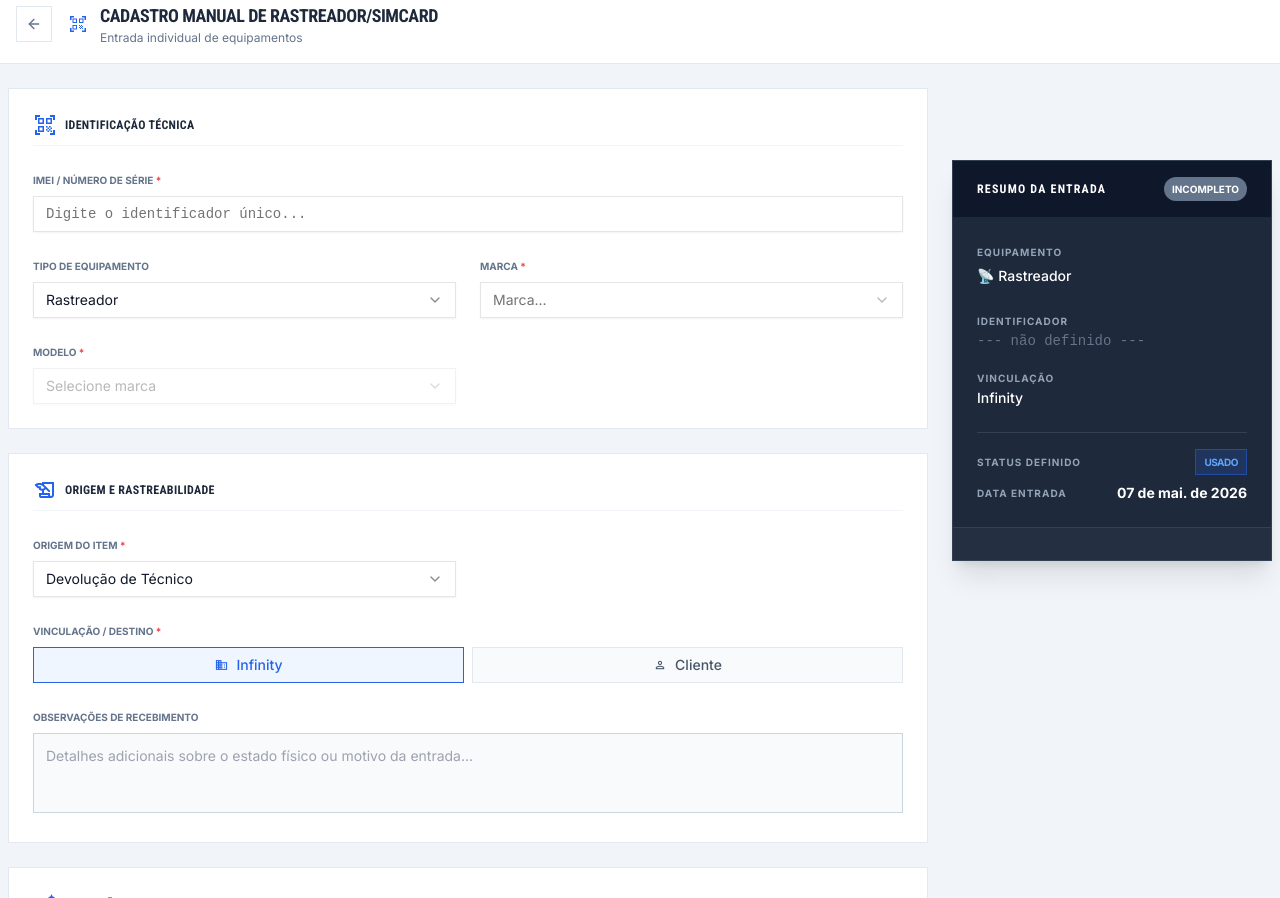
it: CadastroIndividualPage (integrado, APIs mockadas) › resumo: IMEI curto exibe ID INVÁLIDO com marca e modelo preenchidos
Expected: the heading "Identificação Técnica" is shown, [65,117,194,133]
Click the dropdown labelled "Marca...": (520, 300) [480,282,903,318]
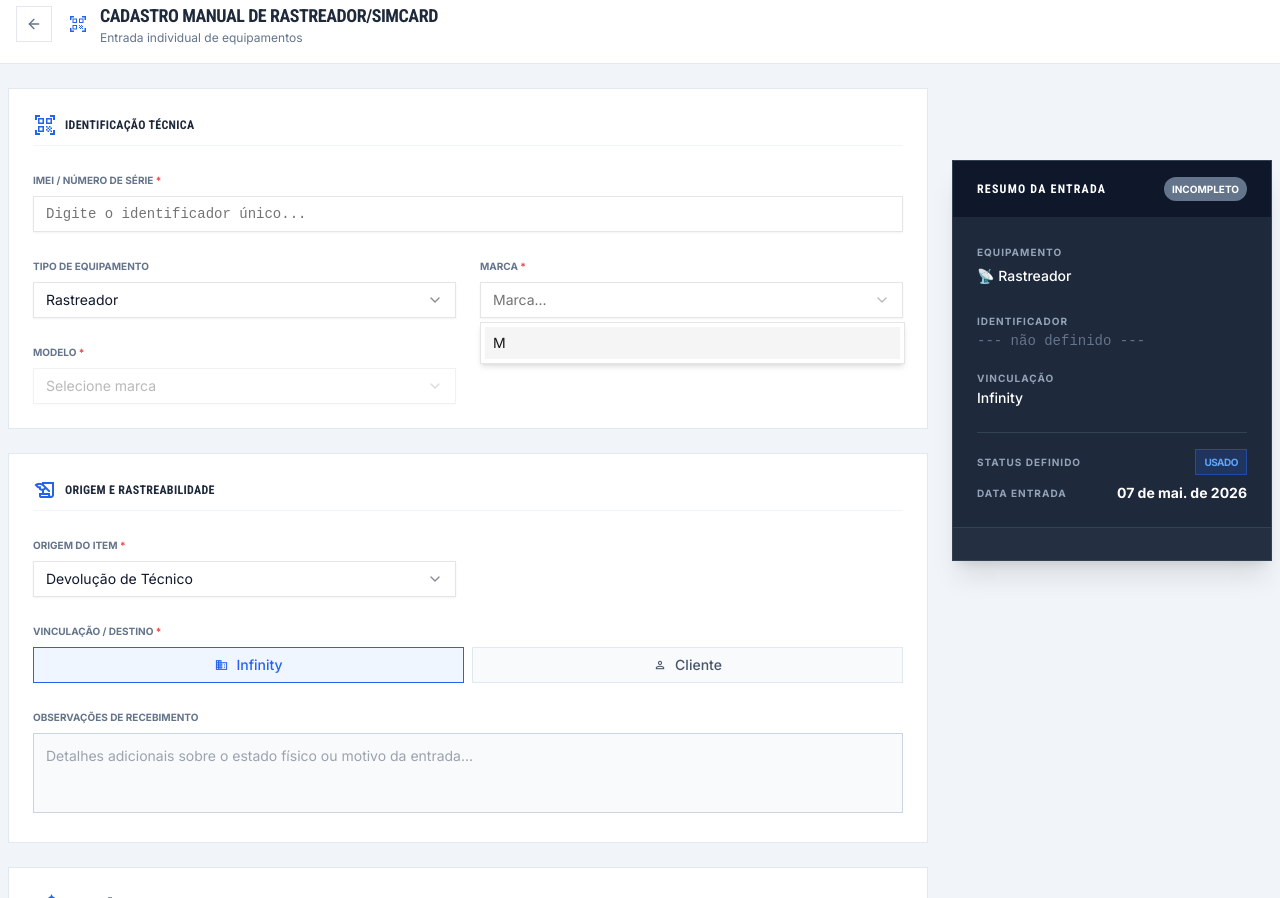
Click the option "M": (499, 342) [485,327,900,359]
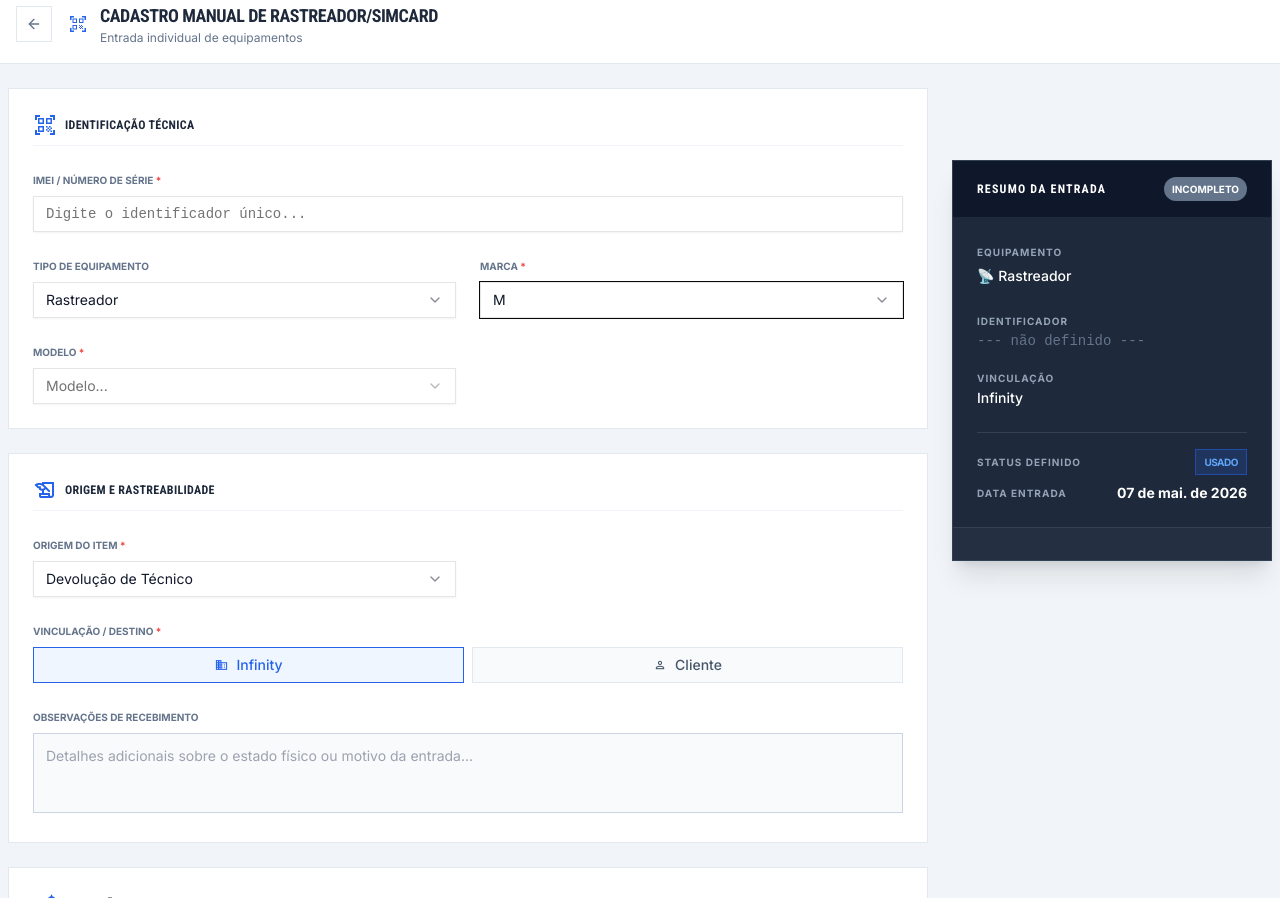
Click the dropdown labelled "Modelo...": (77, 386) [33,368,456,404]
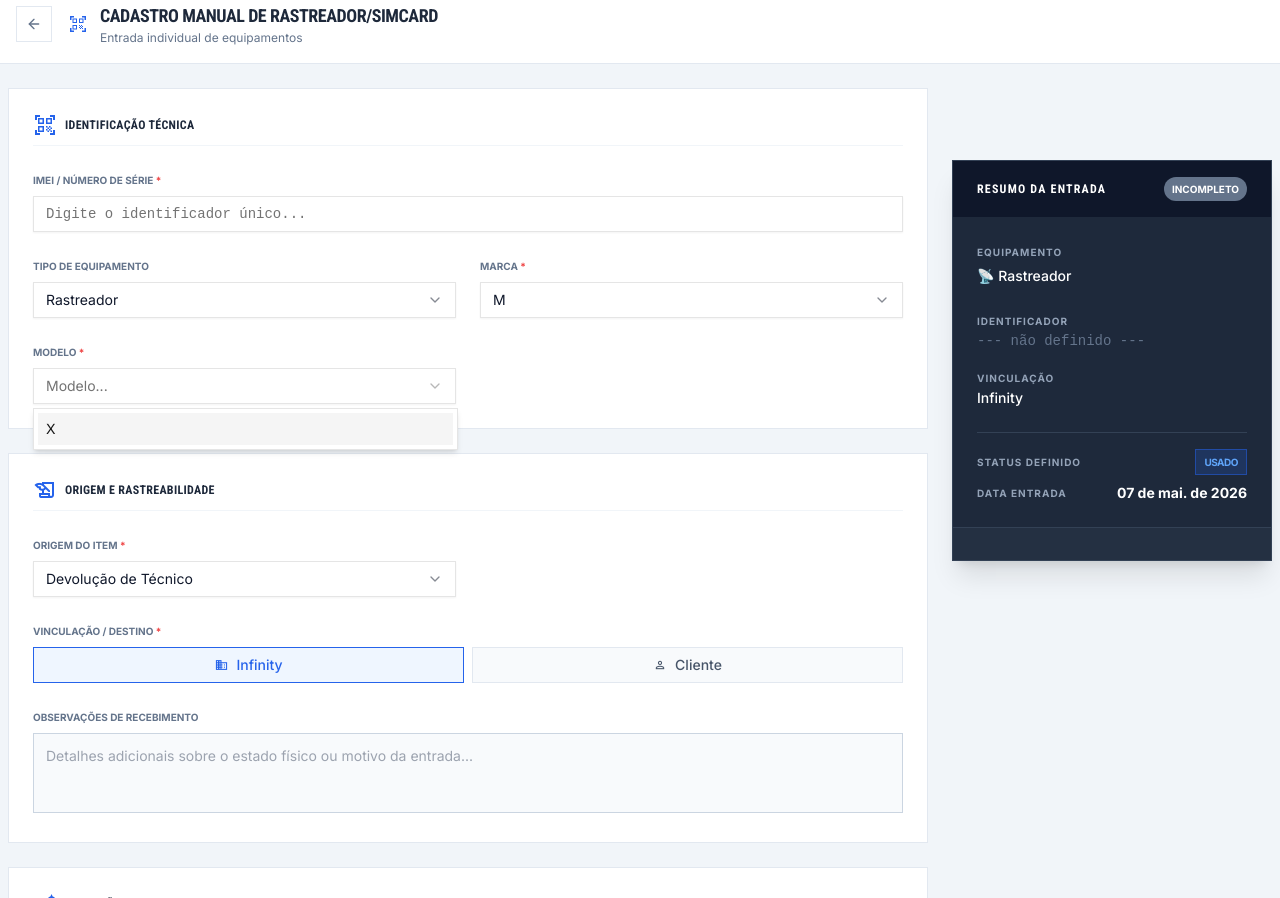
Click the option "X": (51, 428) [38,413,453,445]
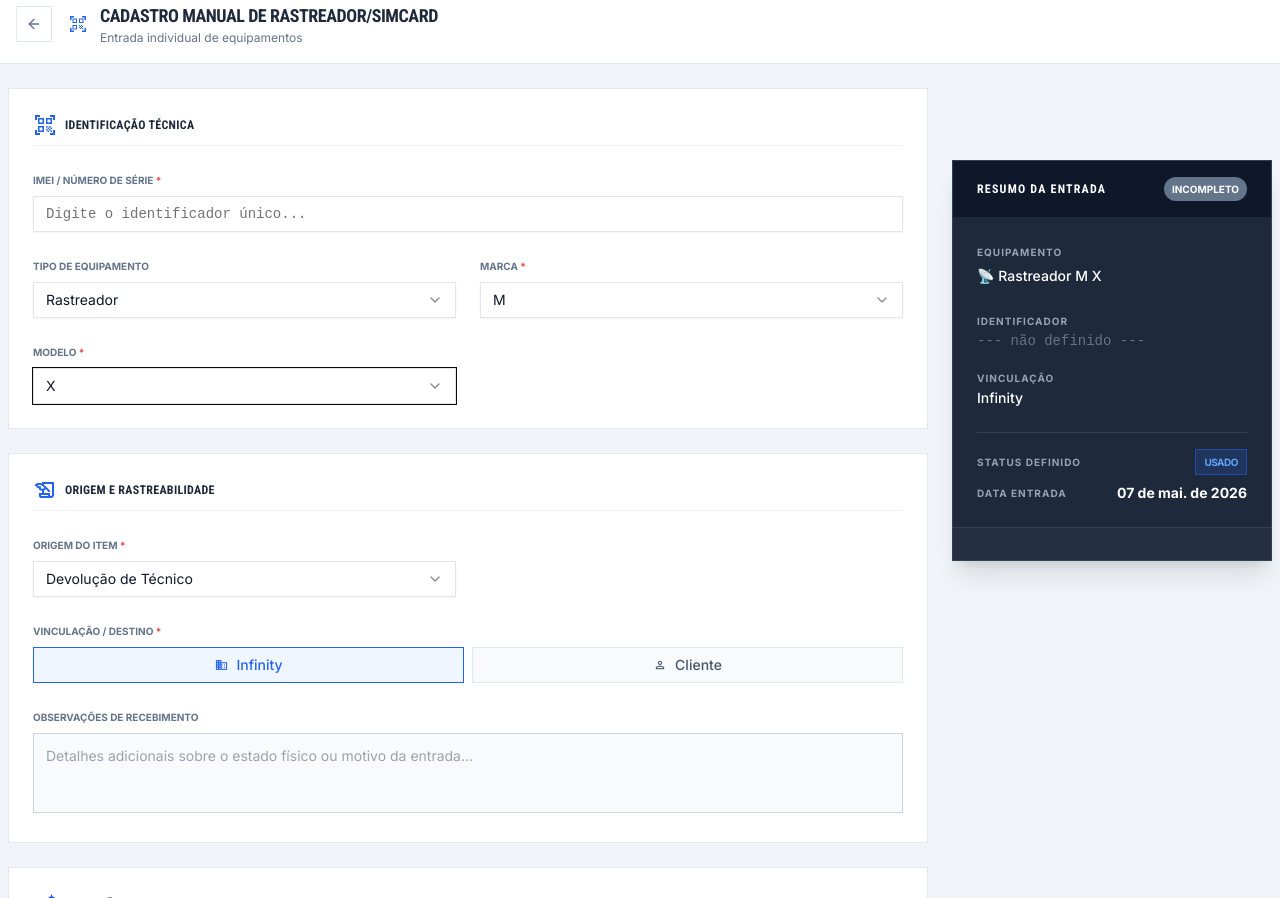
In the field with placeholder "Digite o identificador único...": (468, 214) [33,196,903,232], type "123"
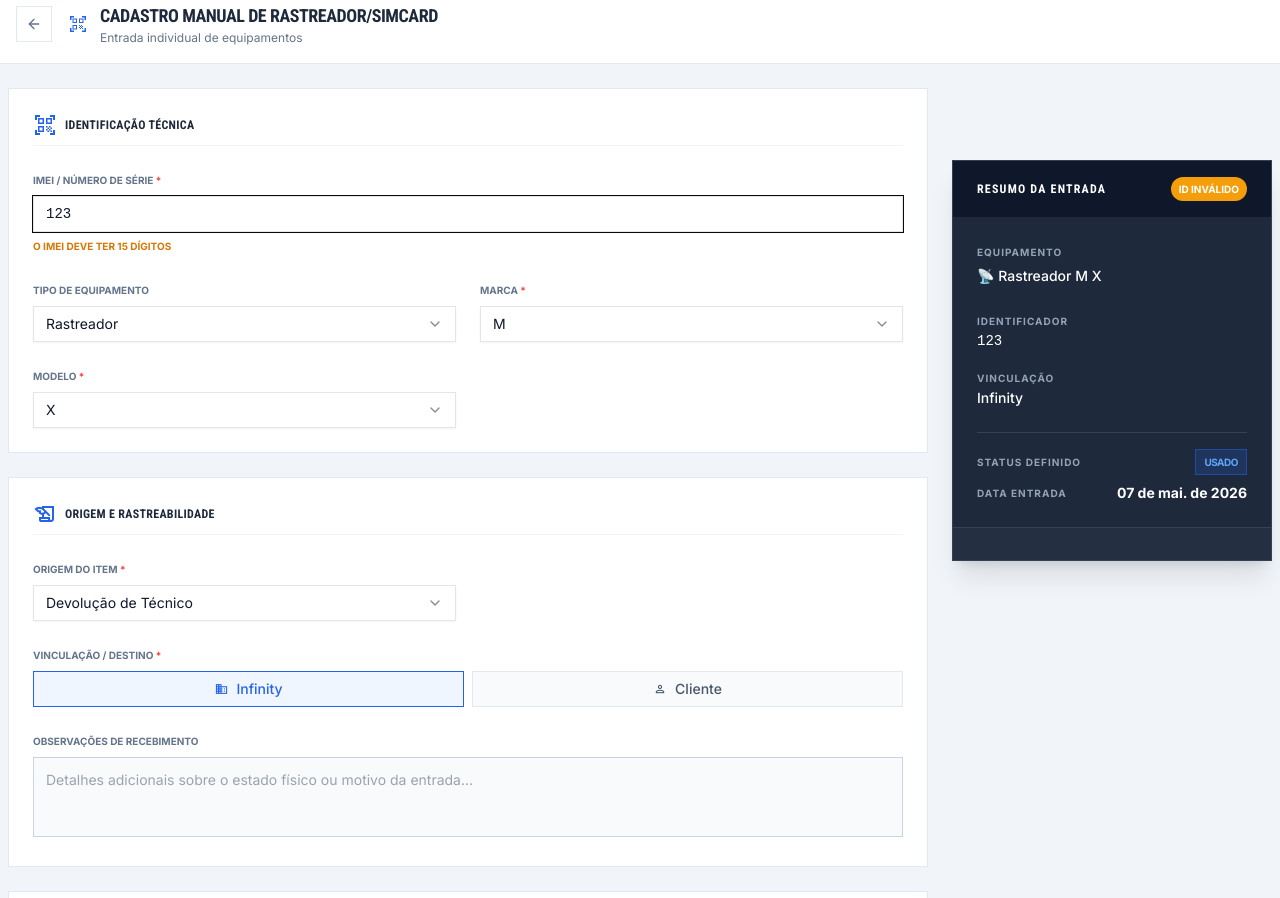
Expected: the text "ID INVÁLIDO" is shown, [1171,177,1247,201]
Expected: the text "O IMEI deve ter 15 dígitos" is shown, [33,240,171,252]
